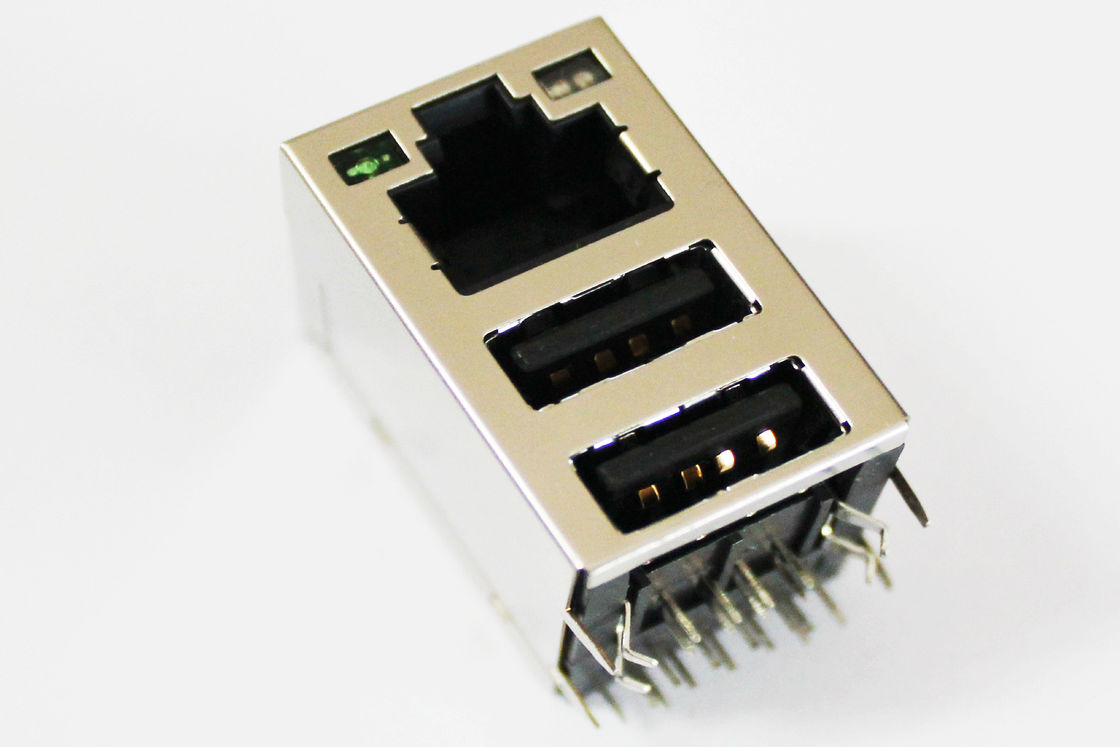lan: (363, 69, 686, 298)
